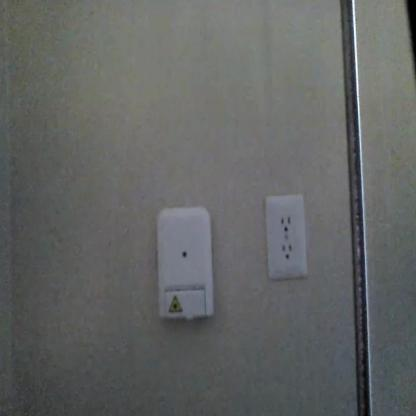OUTLET: (266, 195, 307, 278)
